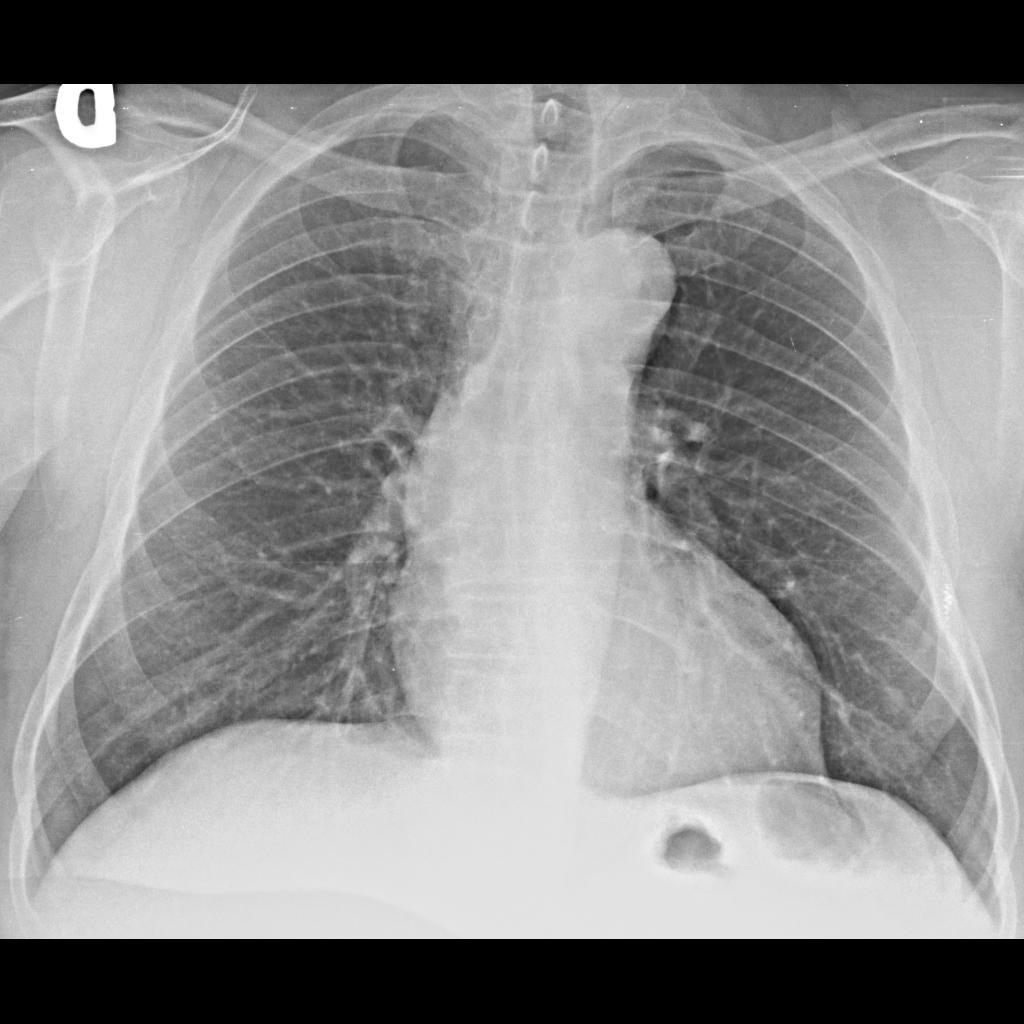Nodule: (874, 672, 918, 728)
